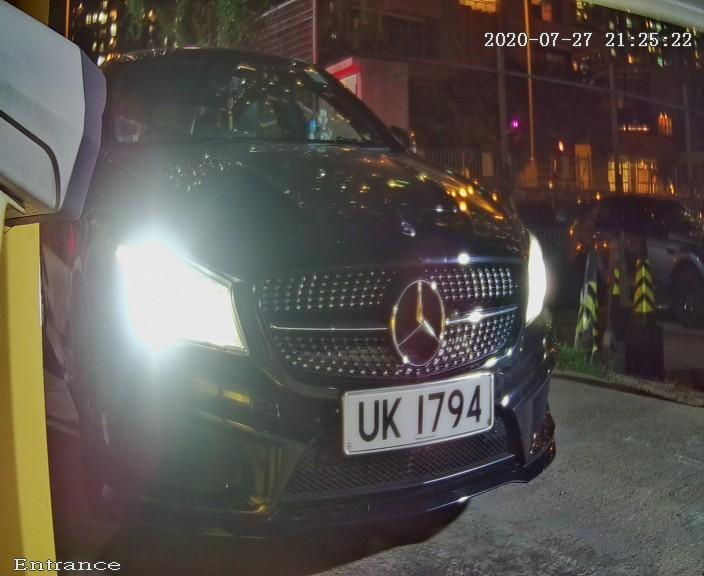privatecar: (57, 21, 569, 541)
